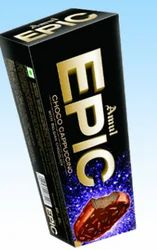Amul: (100, 102, 124, 139)
